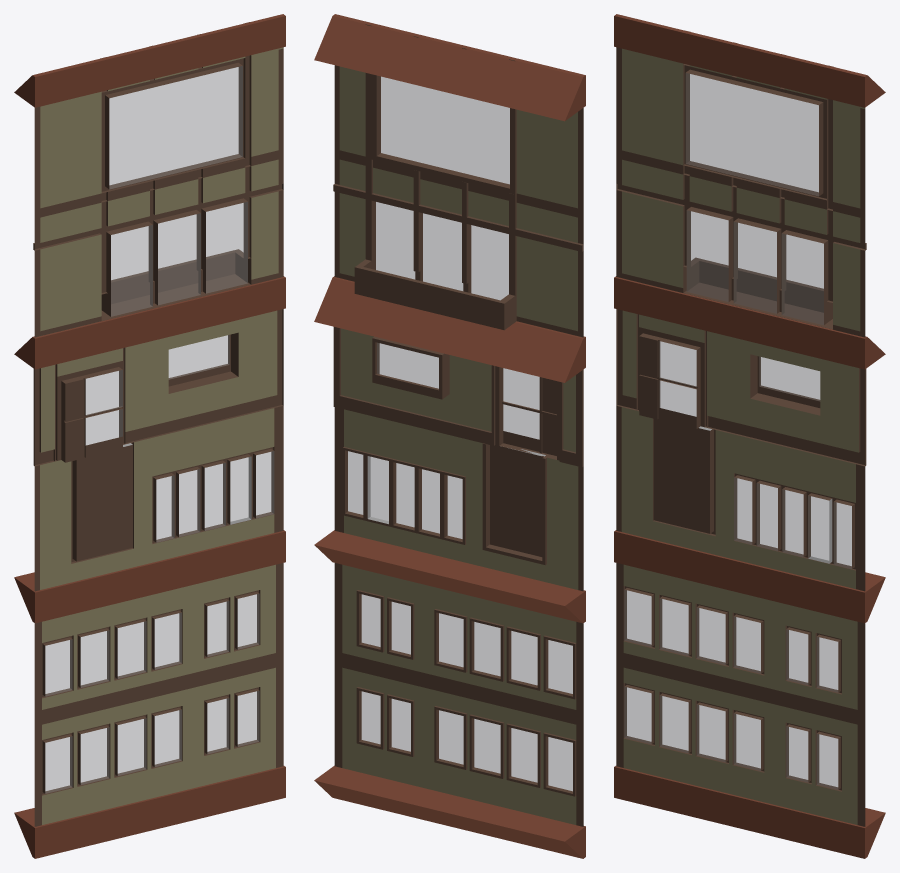
The model's file is SM_Wall_03.fbx.
The picture shows the model from 3 angles, left to right: view 1: azimuth 30°, elevation 25°; view 2: azimuth 150°, elevation 25°; view 3: azimuth 330°, elevation 25°; orthographic projection.
Parts seen in each view (by area): view 1: Face_08_Up_01; view 2: Face_08_Up_01; view 3: Face_08_Up_01.
Part boxes in pixels (bbox=[...]): Face_08_Up_01: bbox=[14, 14, 285, 858]; Face_08_Up_01: bbox=[314, 14, 585, 858]; Face_08_Up_01: bbox=[614, 14, 885, 858].
Bounding box in the file's own units: 129 × 384 × 20.96.
